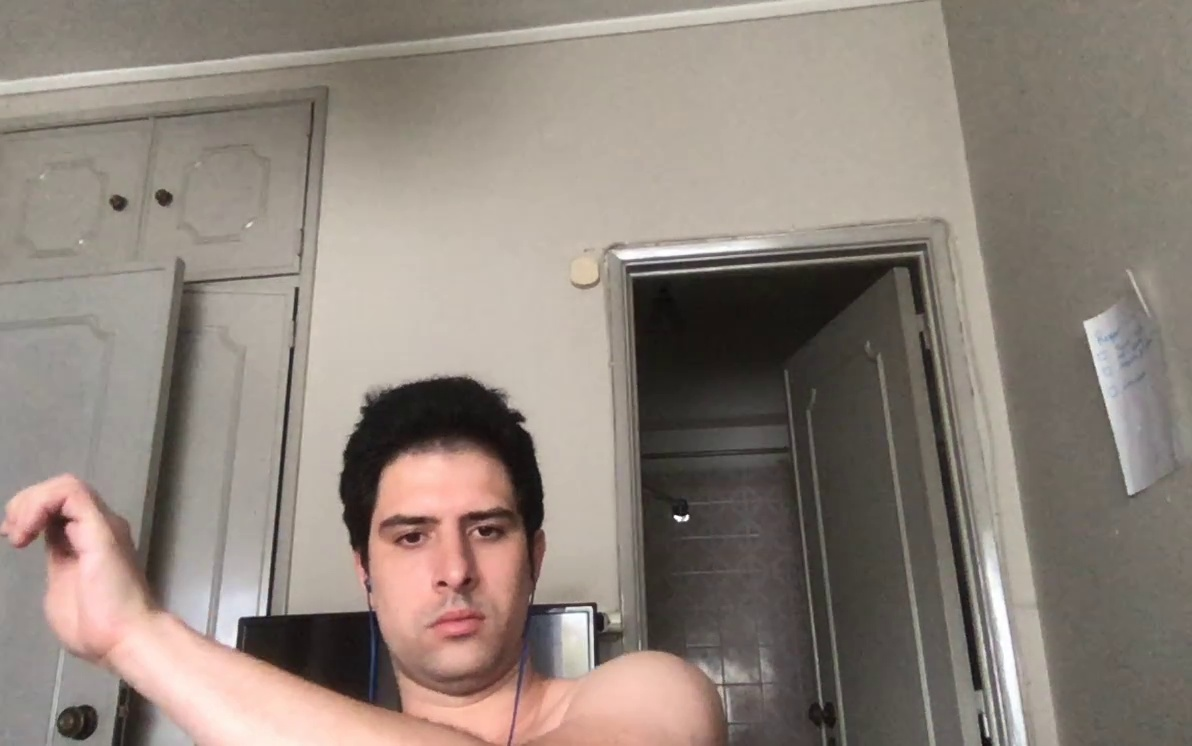c: (2, 463, 155, 682)
